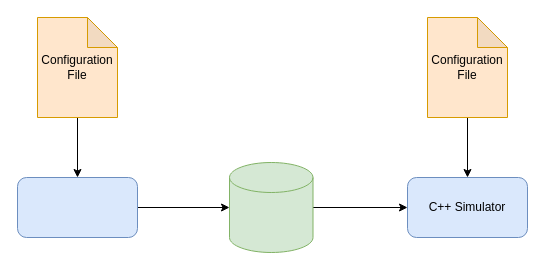
The diagram is 545 pixels wide and 270 high, and some of its shapes have lost their labels. The centre of each missing label's shape, as x and y in pixels:
"Intermediate Storage (IDRISI / HIF)" belongs at pixel 270 207.
"Python Data Pipeline" belongs at pixel 77 207.
